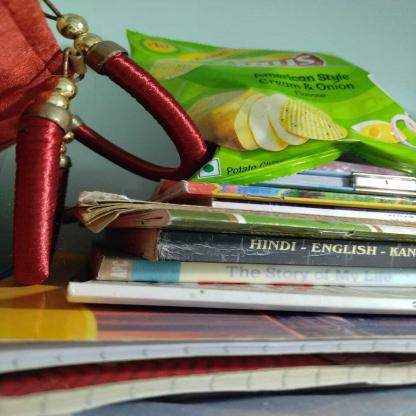cream_and_onion: (127, 29, 412, 185)
